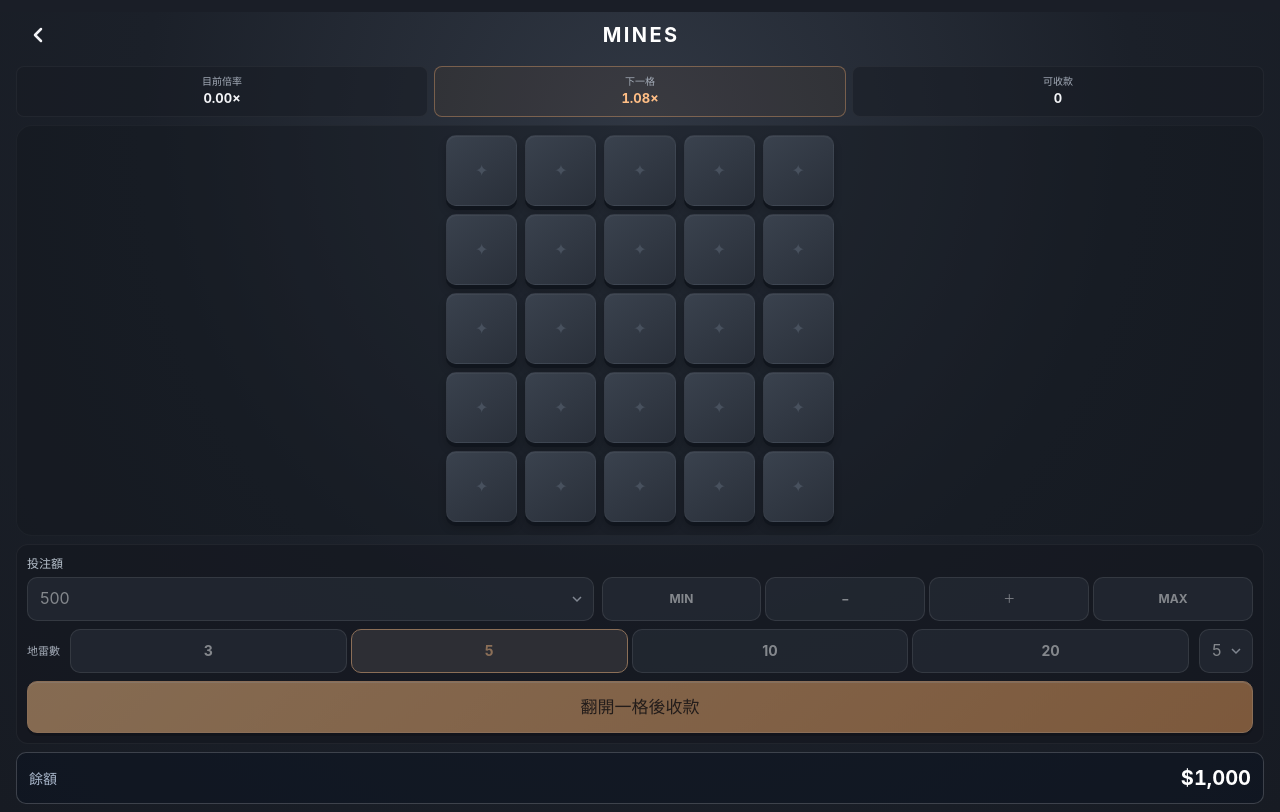
MinesView › locks restored round settings and only enables cashout after a safe reveal
Expected: the dropdown labelled "投注額" shows "500", [27,577,594,621]
Expected: the dropdown with id "mine-count" shows "5", [1199,629,1253,673]
Click the button named "翻開第 1 格". click: [482, 170]
box: [446,134,517,206]
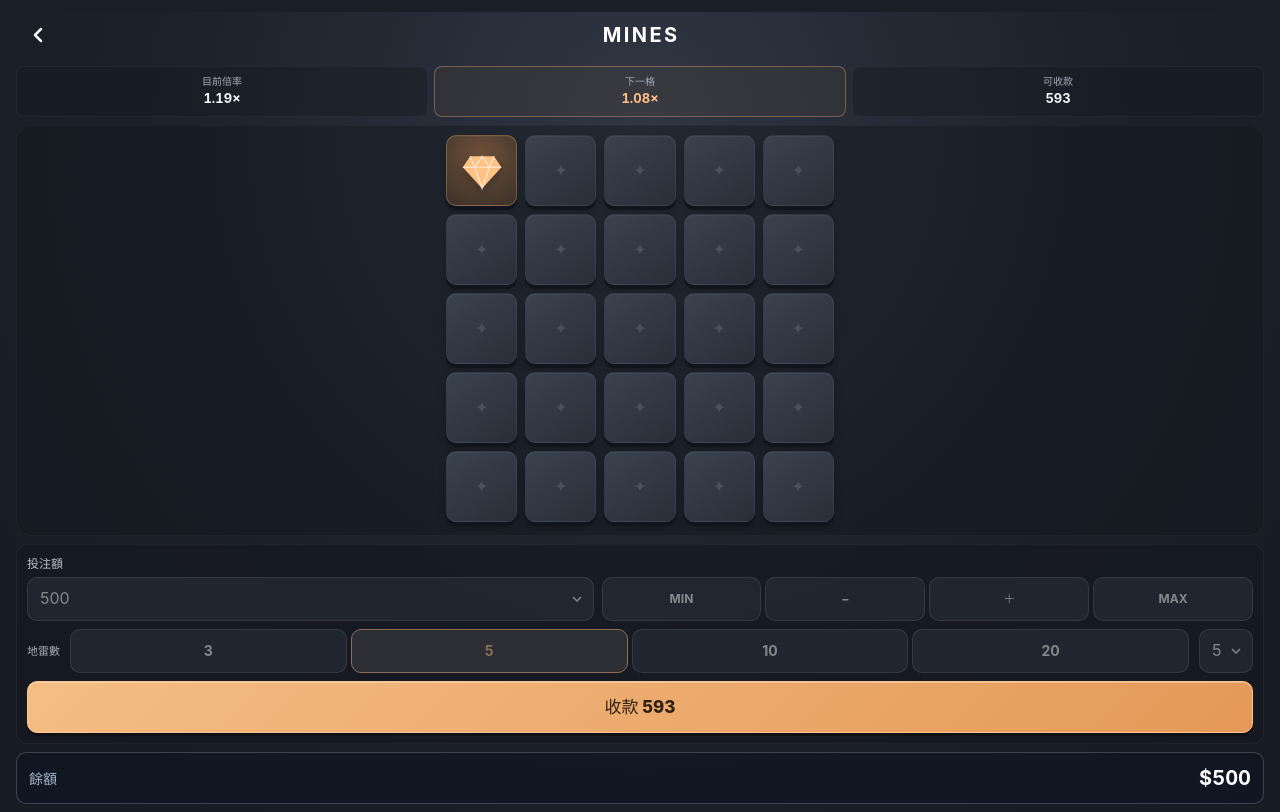
Now the button "收款 593" is enabled, box [27,681,1253,733]
Now the button "收款 593" is shown, box [27,681,1253,733]
